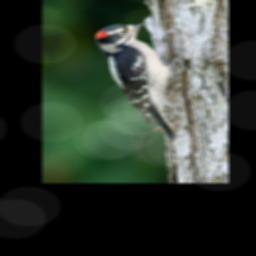Woodpecker: (93, 20, 182, 143)
